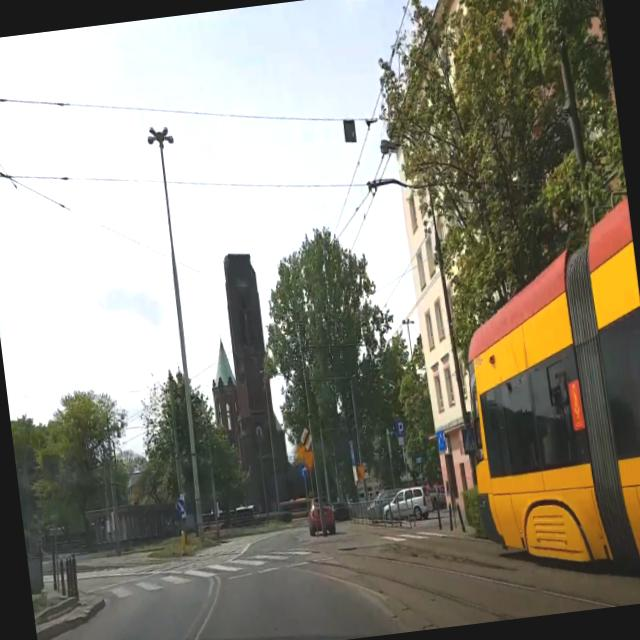Przejscie dla pieszych: (460, 426, 478, 455)
Ustap pierwszenstwa: (302, 449, 316, 471)
